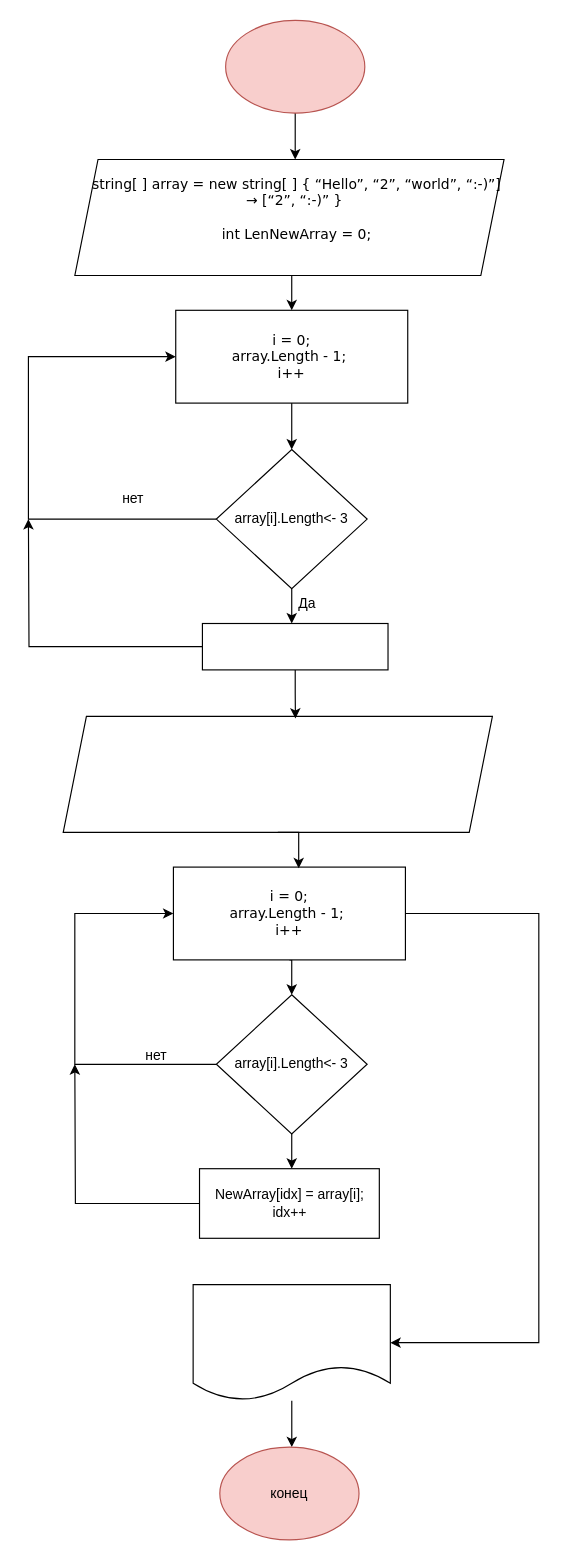
Some shapes in this 568 by 1560 pixel diagram are drawn without their labels. The shapes that lost their labels are listed below. From the top down, each one's centre as x and y in pixels, then its label:
(x=294, y=66): начало
(x=294, y=646): LenNewArray++
(x=277, y=773): string[ ] NewArray = new string[ LenNewArray ]; int idx= 0;
(x=291, y=1342): PrintArray (array) Console.WriteLine(" ->") PrintArray(newArray)
